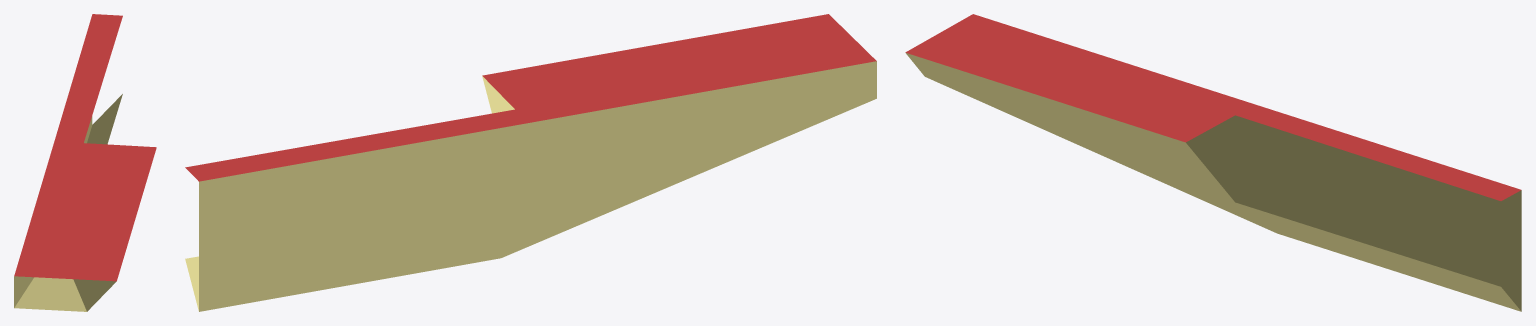
The picture shows the model from 3 angles, left to right: view 1: azimuth 30°, elevation 25°; view 2: azimuth 150°, elevation 25°; view 3: azimuth 270°, elevation 25°; orthographic projection. The views are drawn at different scales.
Size of the model in its own units: 19.12 by 26.6 by 5.81.
